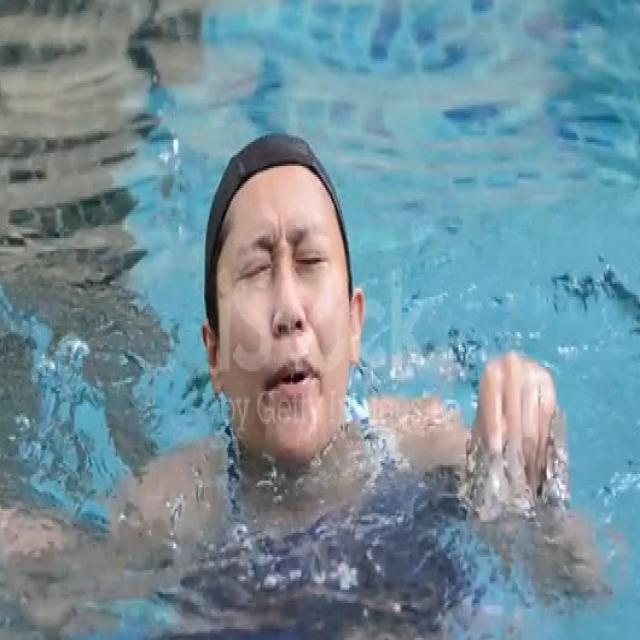Drowning: (85, 134, 593, 571)
